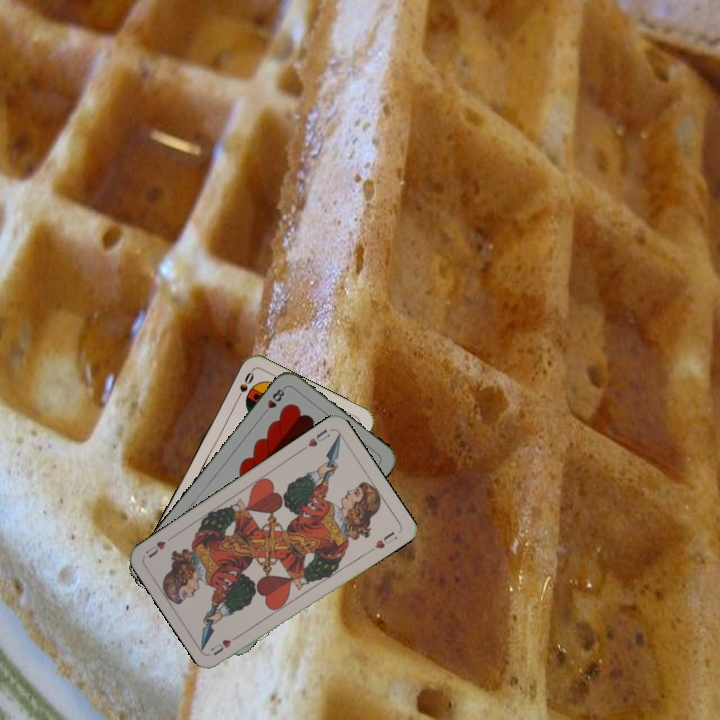H8: (258, 383, 287, 418)
HU: (206, 630, 244, 658), (298, 425, 332, 453)
SO: (231, 368, 257, 405)
